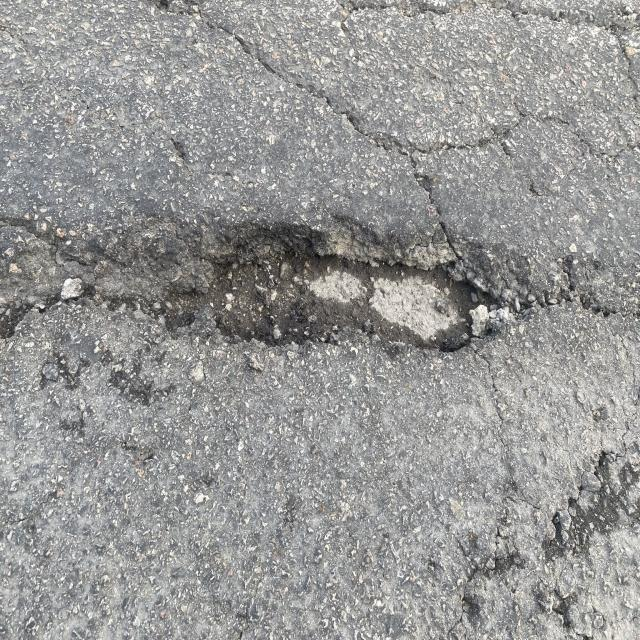Pothole: (0, 182, 582, 426)
